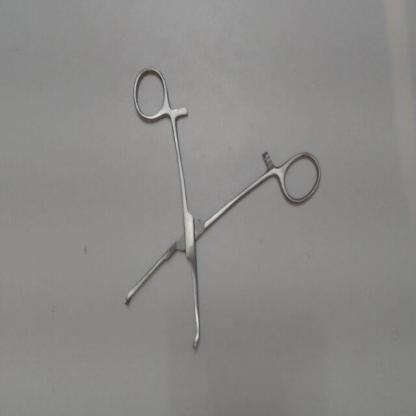Allis Tissue Forceps: (113, 57, 328, 360)
